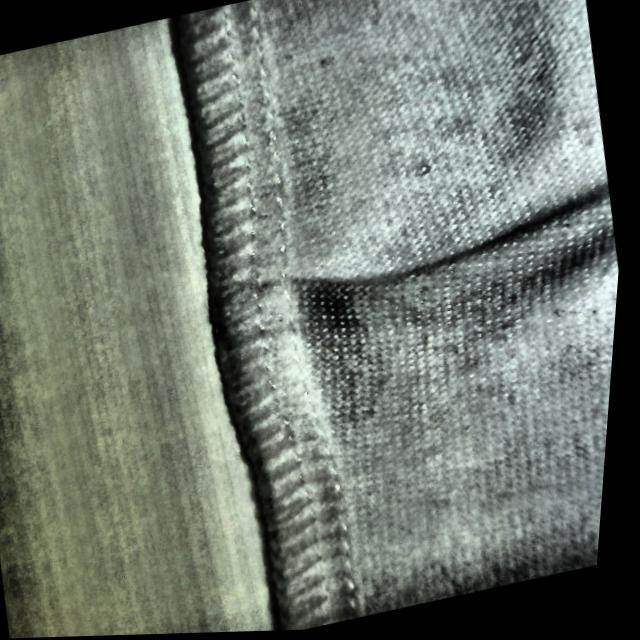seam: (199, 198, 512, 386)
